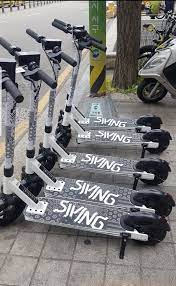kick_body: (69, 152, 133, 175), (80, 116, 136, 130)
kick_handler: (1, 37, 55, 87), (28, 30, 76, 66), (56, 21, 106, 51)
kick_neck: (43, 67, 59, 147), (4, 95, 15, 185), (26, 85, 36, 169)
kick_wheel: (142, 189, 172, 215), (137, 216, 165, 243), (142, 158, 167, 185), (144, 130, 168, 153), (140, 116, 162, 130)
